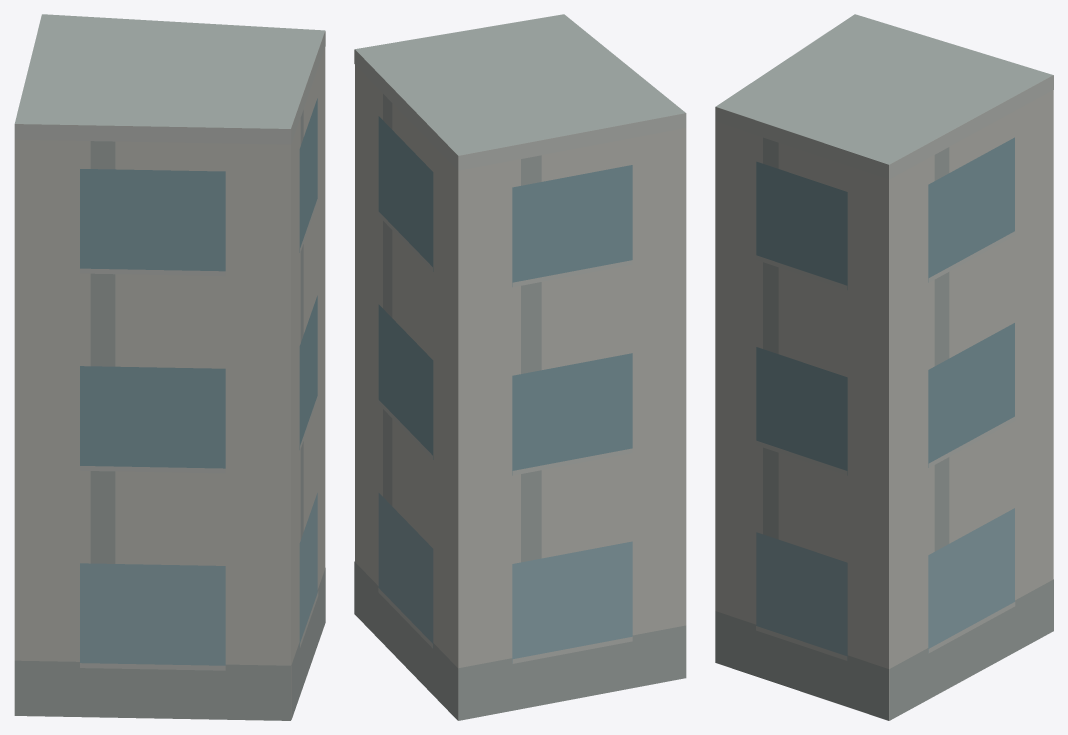
File: survey-upis-32748379.glb
The picture shows the model from 3 angles, left to right: view 1: azimuth 30°, elevation 25°; view 2: azimuth 150°, elevation 25°; view 3: azimuth 270°, elevation 25°; orthographic projection. The views are drawn at different scales.
Visible parts, largest first — view 1: survey-upis-32748379.tmp; view 2: survey-upis-32748379.tmp; view 3: survey-upis-32748379.tmp.
Part boxes in pixels (x1=…): survey-upis-32748379.tmp: x1=14, y1=14, x2=325, y2=720; survey-upis-32748379.tmp: x1=354, y1=14, x2=686, y2=720; survey-upis-32748379.tmp: x1=715, y1=14, x2=1053, y2=720.
Size of the model in its own units: 5.33 by 9.15 by 5.05.
